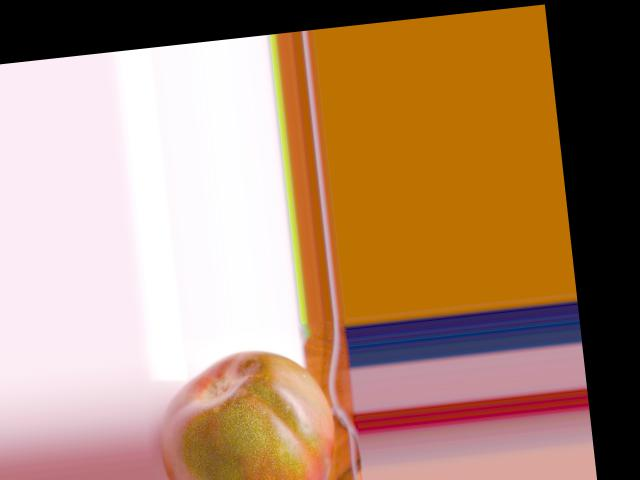tomato: (152, 342, 340, 480)
